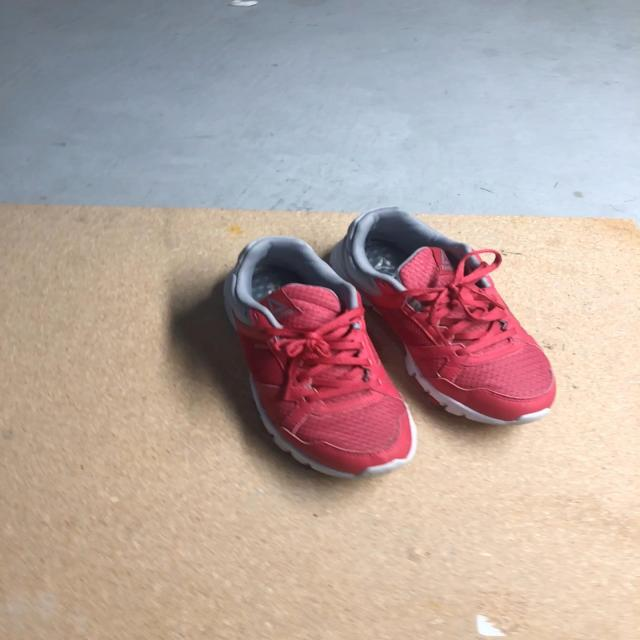shoe: (325, 209, 558, 427), (220, 237, 417, 481)
